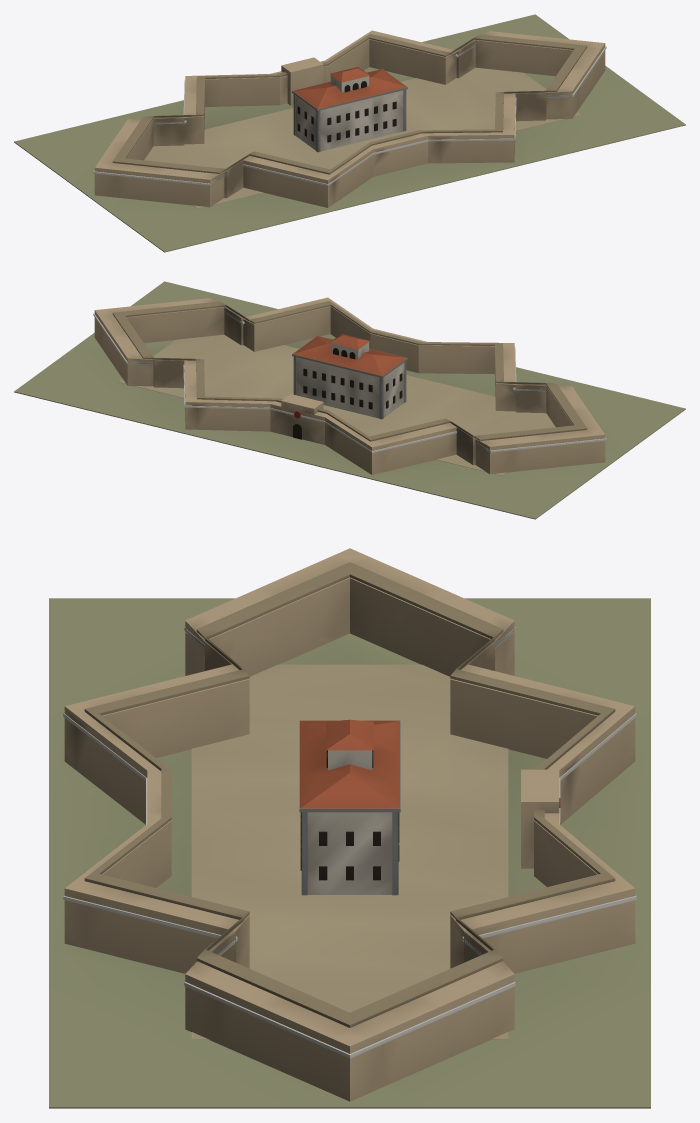
The model's file is forte-belvedere.glb.
The picture shows the model from 3 angles, top to bottom: view 1: azimuth 30°, elevation 25°; view 2: azimuth 150°, elevation 25°; view 3: azimuth 270°, elevation 25°; orthographic projection. The views are drawn at different scales.
Parts seen in each view (by area): view 1: p0_bastions, p2_palazzina, p1_gate; view 2: p0_bastions, p2_palazzina, p1_gate; view 3: p0_bastions, p2_palazzina, p1_gate.
Boxes of the visible parts, left/top/right/bottom form: p0_bastions: left=14, top=14, right=685, bottom=252; p2_palazzina: left=292, top=67, right=407, bottom=152; p1_gate: left=281, top=57, right=323, bottom=105; p0_bastions: left=14, top=281, right=685, bottom=519; p2_palazzina: left=292, top=334, right=407, bottom=419; p1_gate: left=281, top=394, right=323, bottom=439; p0_bastions: left=49, top=548, right=650, bottom=1108; p2_palazzina: left=299, top=719, right=400, bottom=895; p1_gate: left=521, top=769, right=560, bottom=868.
Bounding box in the file's own units: 190 × 22.28 × 95.01.
